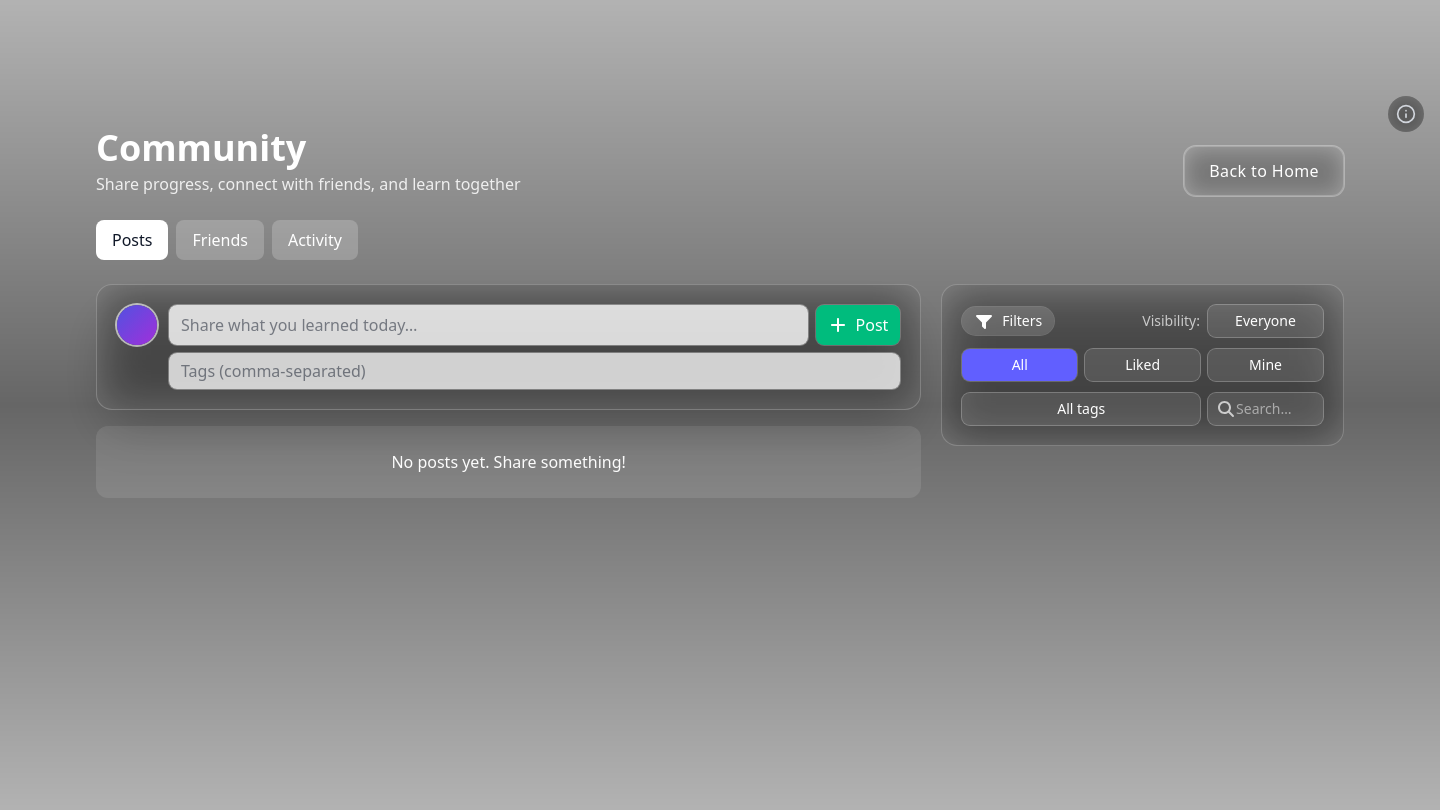
it: CommunityPage › switches to Friends tab when clicked
This screenshot has width=1440, height=810.
Click the button "Friends": [220, 240] box left=176, top=220, right=264, bottom=260
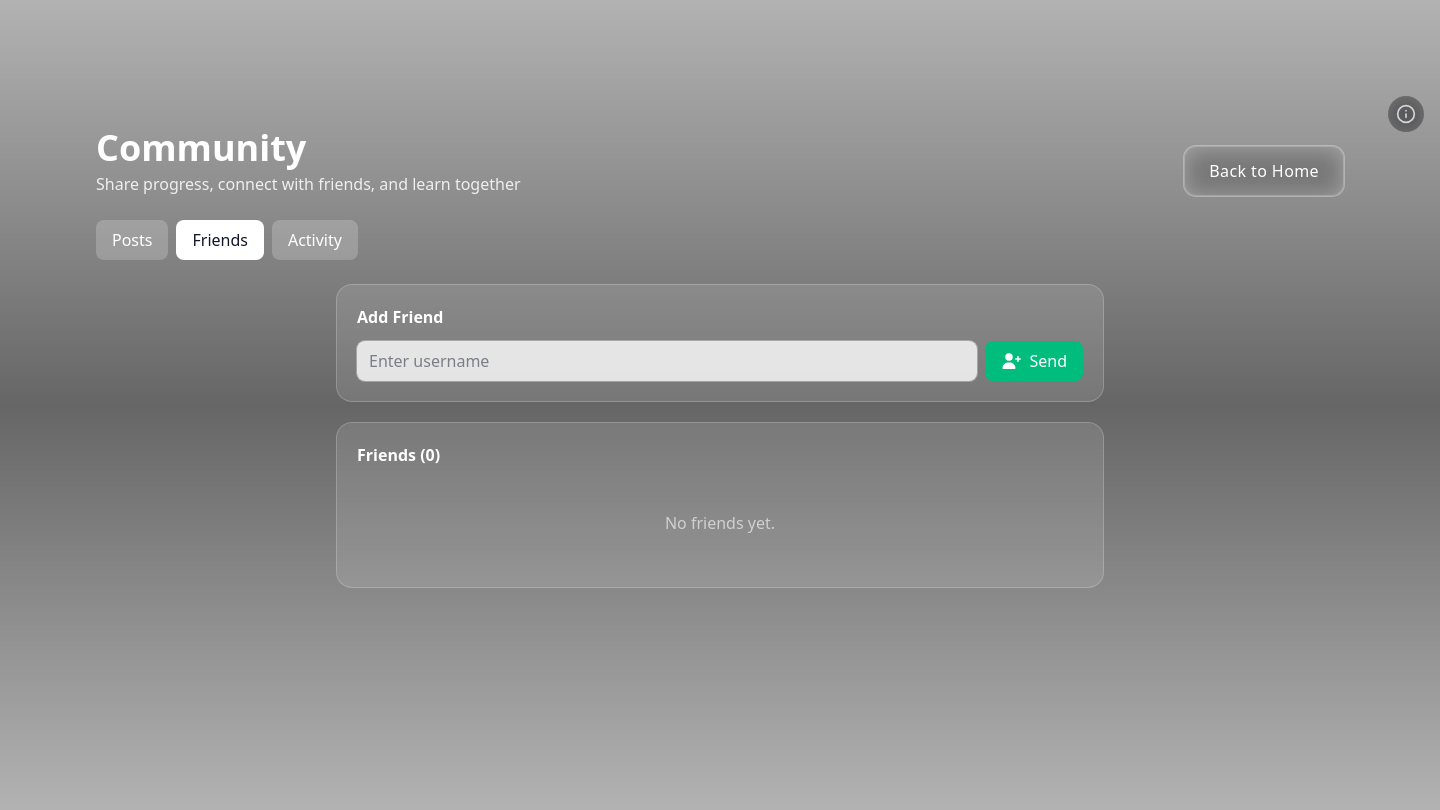
Now the heading "Add Friend" is shown, box left=357, top=306, right=444, bottom=328
